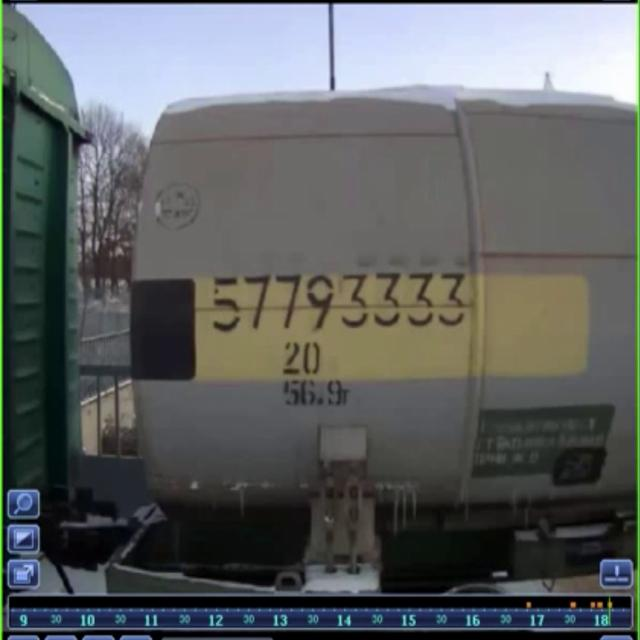boxcar: (0, 0, 100, 596)
tank: (112, 24, 640, 592)
